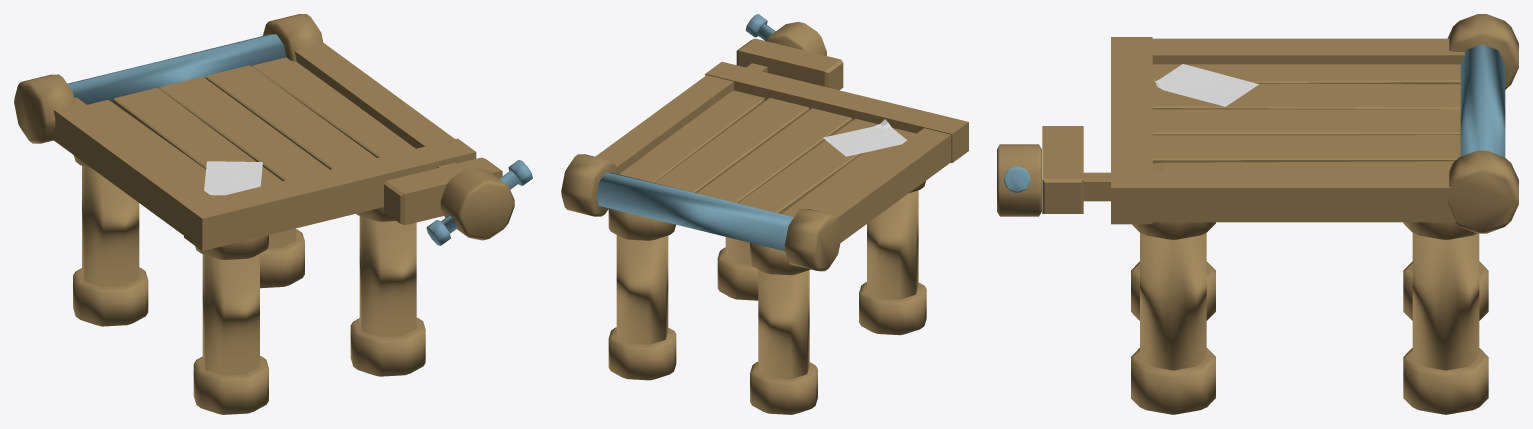
Rendered from SM_Table_1.fbx.
3 renders of one model, left to right at view 1: azimuth 30°, elevation 25°; view 2: azimuth 150°, elevation 25°; view 3: azimuth 270°, elevation 25°, orthographic. The views are drawn at different scales.
Visible parts, largest first — view 1: TableSurface.004; view 2: TableSurface.004; view 3: TableSurface.004.
Part boxes in pixels (box(x1,y1,x2,y2)): TableSurface.004: box(14, 14, 532, 414); TableSurface.004: box(561, 14, 968, 414); TableSurface.004: box(997, 14, 1518, 414).
Bounding box in the file's own units: 653 × 501 × 885.
